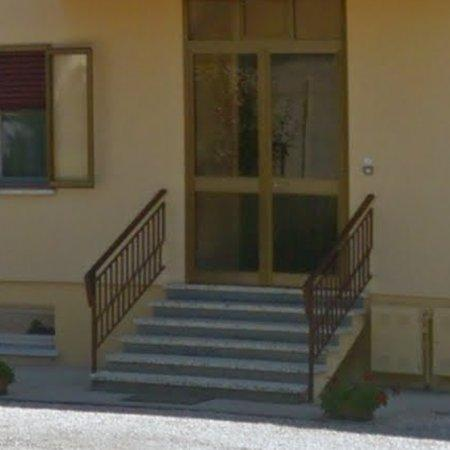stairs: (92, 195, 375, 402)
